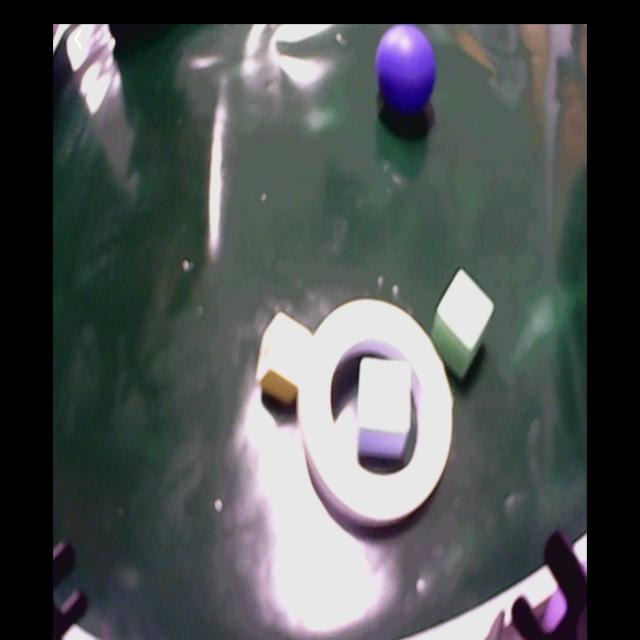ball: (378, 27, 438, 110), (542, 555, 588, 638)
